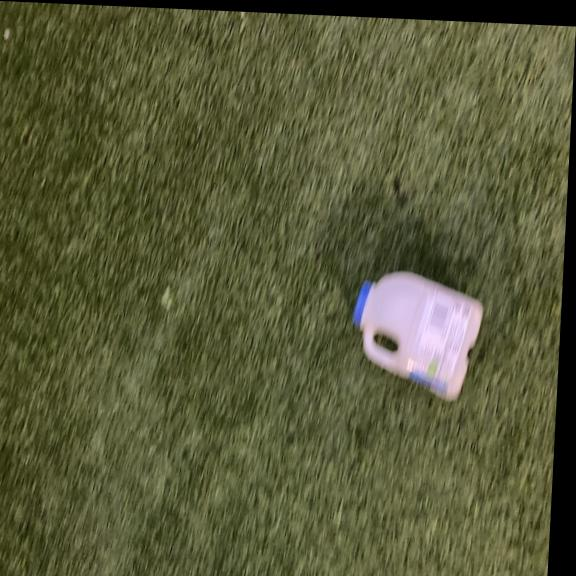Plastik: (348, 263, 489, 403)
